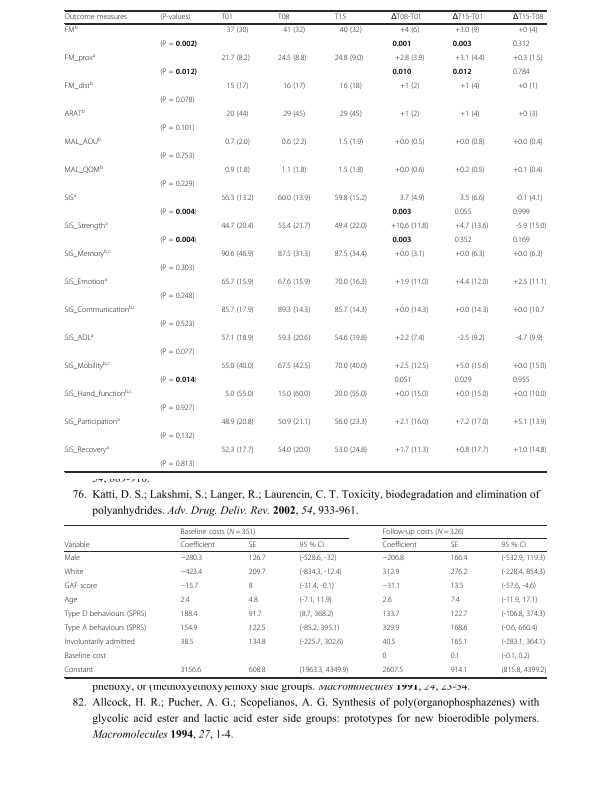borderless: (63, 8, 546, 471), (63, 523, 546, 677)
cell: (63, 609, 147, 619), (63, 623, 147, 633), (64, 304, 137, 315), (64, 388, 133, 399), (381, 527, 465, 536), (63, 637, 136, 647), (180, 527, 256, 536), (64, 416, 121, 427), (64, 13, 128, 22), (64, 248, 112, 259), (64, 360, 111, 371), (64, 444, 110, 455), (299, 665, 349, 675), (64, 220, 109, 231), (64, 276, 108, 287), (500, 665, 547, 675), (500, 553, 546, 563), (500, 567, 546, 577), (500, 609, 546, 619), (500, 637, 546, 647), (299, 637, 344, 647), (64, 164, 104, 175), (63, 651, 107, 661), (299, 567, 342, 577), (64, 136, 102, 147), (299, 623, 340, 633), (299, 553, 337, 563), (500, 595, 538, 605), (500, 623, 538, 633), (381, 540, 418, 550), (500, 581, 537, 591), (180, 540, 216, 550), (299, 581, 335, 591), (64, 52, 96, 63), (159, 40, 198, 49), (159, 68, 198, 77), (159, 208, 198, 217), (390, 222, 429, 231), (159, 236, 198, 245), (159, 376, 198, 385), (63, 581, 98, 591), (299, 609, 334, 619), (299, 595, 333, 605), (64, 80, 94, 91), (64, 332, 94, 343), (159, 96, 195, 105), (159, 124, 195, 133), (159, 152, 195, 161), (159, 180, 195, 189), (159, 264, 195, 273), (159, 292, 195, 301), (159, 320, 195, 329), (159, 348, 195, 357), (159, 404, 195, 413), (159, 432, 195, 441), (159, 460, 195, 469), (220, 194, 255, 203), (220, 222, 255, 231), (454, 222, 489, 231), (220, 250, 255, 259), (220, 278, 255, 287), (394, 278, 429, 287), (454, 278, 489, 287), (512, 278, 547, 287), (220, 306, 255, 315), (394, 306, 429, 315), (454, 306, 489, 315), (220, 334, 255, 343), (220, 362, 255, 371), (394, 362, 429, 371), (454, 362, 489, 371), (512, 362, 547, 371), (394, 390, 429, 399), (454, 390, 489, 399), (512, 390, 547, 399), (220, 418, 255, 427), (394, 418, 429, 427), (454, 418, 489, 427), (512, 418, 547, 427), (220, 446, 255, 455), (394, 446, 429, 455), (454, 446, 489, 455), (512, 446, 547, 455), (500, 651, 531, 661), (63, 665, 94, 675), (277, 194, 311, 203), (334, 194, 368, 203), (277, 222, 311, 231), (334, 222, 368, 231), (277, 250, 311, 259), (334, 250, 368, 259), (277, 278, 311, 287), (334, 278, 368, 287), (277, 306, 311, 315), (334, 306, 368, 315), (277, 334, 311, 343), (334, 334, 368, 343), (277, 362, 311, 371), (334, 362, 368, 371), (277, 390, 311, 399), (334, 390, 368, 399), (277, 418, 311, 427), (334, 418, 368, 427), (277, 446, 311, 455), (334, 446, 368, 455), (390, 13, 423, 22), (512, 306, 545, 315), (159, 13, 191, 22), (452, 13, 484, 22), (512, 13, 544, 22), (454, 54, 486, 63), (512, 54, 544, 63), (454, 138, 486, 147), (512, 138, 544, 147), (454, 166, 486, 175), (512, 166, 544, 175), (515, 222, 547, 231), (454, 250, 486, 259), (512, 250, 544, 259), (220, 54, 251, 63), (394, 54, 425, 63), (394, 138, 425, 147), (394, 166, 425, 175), (394, 250, 425, 259), (394, 334, 425, 343), (224, 390, 255, 399), (277, 54, 307, 63), (334, 54, 364, 63), (63, 540, 90, 550), (500, 540, 527, 550), (515, 194, 544, 203), (457, 334, 486, 343), (515, 334, 544, 343), (299, 540, 325, 550), (224, 138, 251, 147), (337, 138, 364, 147), (224, 166, 251, 175), (337, 166, 364, 175), (459, 194, 486, 203), (64, 108, 86, 119), (381, 553, 405, 563), (454, 26, 480, 35), (281, 138, 307, 147), (281, 166, 307, 175), (399, 194, 425, 203), (180, 553, 203, 563), (180, 567, 203, 577), (381, 665, 404, 675), (180, 665, 202, 675), (282, 26, 306, 35), (339, 26, 363, 35), (282, 82, 306, 91), (339, 82, 363, 91), (282, 110, 306, 119), (339, 110, 363, 119), (63, 567, 84, 577), (226, 26, 249, 35), (226, 82, 249, 91), (226, 110, 249, 119), (381, 581, 401, 591), (381, 567, 400, 577), (180, 581, 199, 591), (381, 609, 400, 619), (381, 623, 400, 633), (399, 26, 420, 35), (517, 26, 538, 35), (399, 82, 420, 91), (459, 82, 480, 91), (517, 82, 538, 91), (399, 110, 420, 119), (459, 110, 480, 119), (517, 110, 538, 119), (63, 553, 81, 563), (248, 553, 266, 563), (450, 553, 468, 563), (248, 567, 266, 577), (450, 567, 468, 577), (180, 609, 198, 619), (450, 609, 468, 619), (180, 623, 198, 633), (248, 623, 266, 633), (450, 623, 468, 633), (248, 637, 266, 647), (450, 637, 468, 647), (248, 665, 266, 675), (450, 665, 468, 675), (391, 40, 412, 48), (391, 68, 412, 76), (391, 208, 412, 216), (391, 236, 412, 244), (64, 24, 79, 35), (512, 40, 530, 49), (512, 68, 530, 77), (454, 208, 472, 217), (512, 208, 530, 217), (454, 236, 472, 245), (512, 236, 530, 245), (394, 376, 412, 385), (454, 376, 472, 385), (512, 376, 530, 385), (452, 40, 472, 48), (452, 68, 472, 76), (63, 595, 78, 605), (248, 609, 263, 619), (381, 637, 396, 647), (64, 192, 77, 203), (450, 581, 464, 591), (180, 637, 194, 647), (220, 13, 234, 22), (277, 13, 290, 22), (334, 13, 347, 22), (180, 595, 191, 605), (248, 595, 259, 605), (381, 595, 392, 605), (450, 595, 461, 605), (450, 651, 461, 661), (248, 540, 257, 550), (450, 540, 459, 550), (248, 581, 254, 591), (381, 651, 387, 661)
